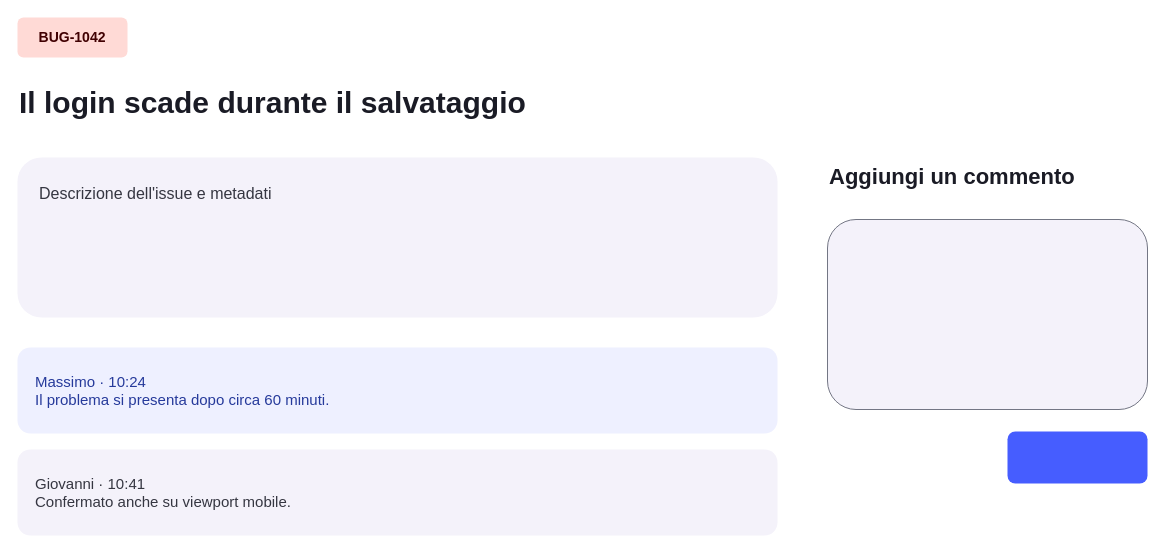
Image size: 1165x552. Some labels were removed from this diagram. Here are the shapes that lost their labels. From the top down, the centre of each, then its label:
At point (987, 314): "Scrivi un aggiornamento utile al team…".
At point (1077, 457): "Pubblica".
